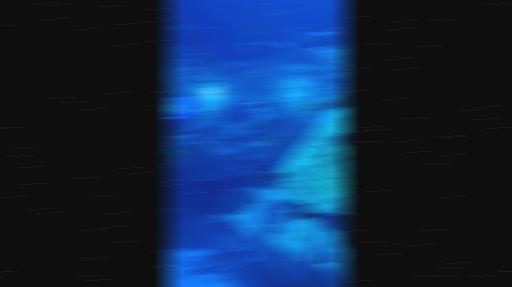Fish: (290, 27, 339, 45), (290, 202, 317, 220), (335, 215, 346, 249), (327, 94, 346, 112), (294, 100, 319, 113), (167, 134, 198, 144), (269, 171, 288, 182), (167, 151, 186, 160), (207, 214, 228, 222), (272, 260, 285, 272), (248, 120, 263, 130), (271, 41, 292, 48), (267, 136, 282, 144), (320, 252, 331, 262), (194, 141, 211, 147), (173, 25, 186, 30), (244, 155, 257, 160), (260, 97, 273, 102), (239, 42, 252, 46), (243, 47, 252, 52), (167, 208, 177, 212), (246, 171, 254, 176), (258, 41, 268, 45), (247, 137, 258, 140), (246, 33, 257, 36), (190, 60, 194, 64)
